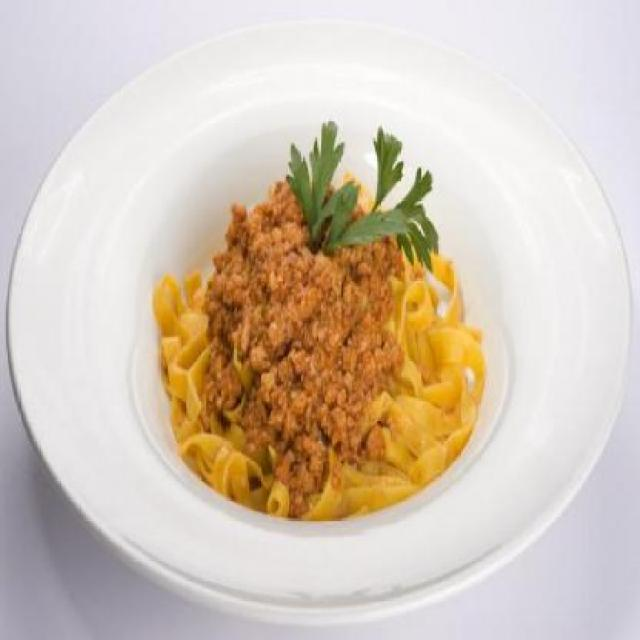Pasta al ragu: (152, 112, 538, 540)
